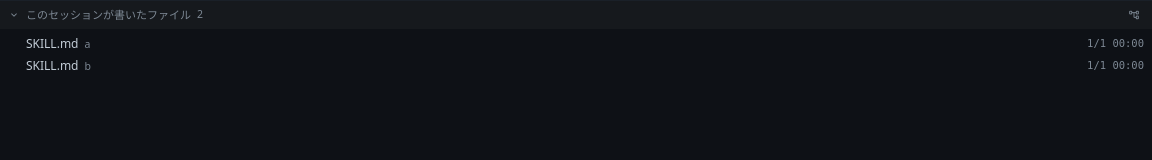
セッションのファイル › はじめは一覧で、ボタンで木に替わり、選んだ表示を覚える
What coordinates should you click on to do the following:
click the button with class "mg-claude-view"
I would click on:
 (1134, 15)
Its box is [1124,5,1144,25].
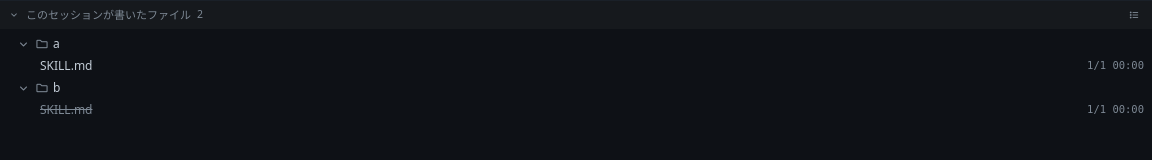
Expected: the element with class "mg-claude-tree" shows "a", [8,33,1144,55]
Expected: the element with class "mg-claude-tree" shows "b", [8,77,1144,99]
